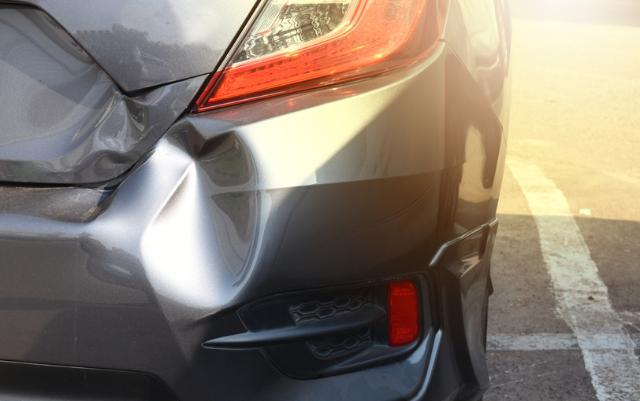Bumper: (107, 126, 287, 319)
Dickey: (50, 32, 155, 175)
